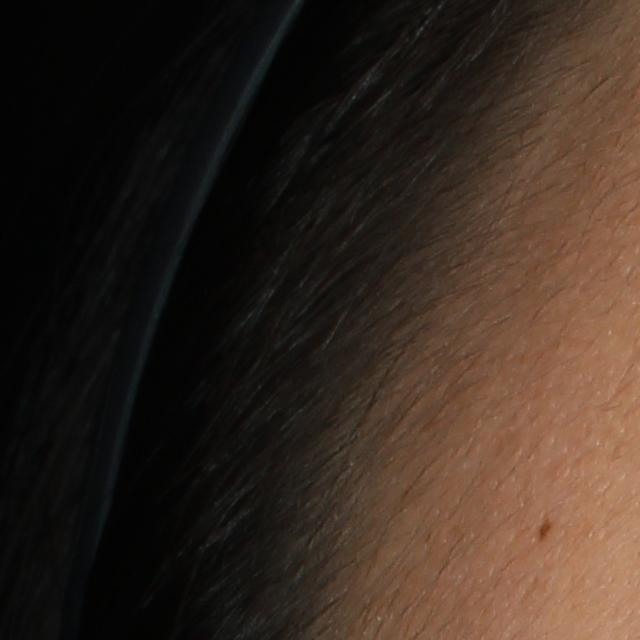nevus: (538, 513, 553, 541)
